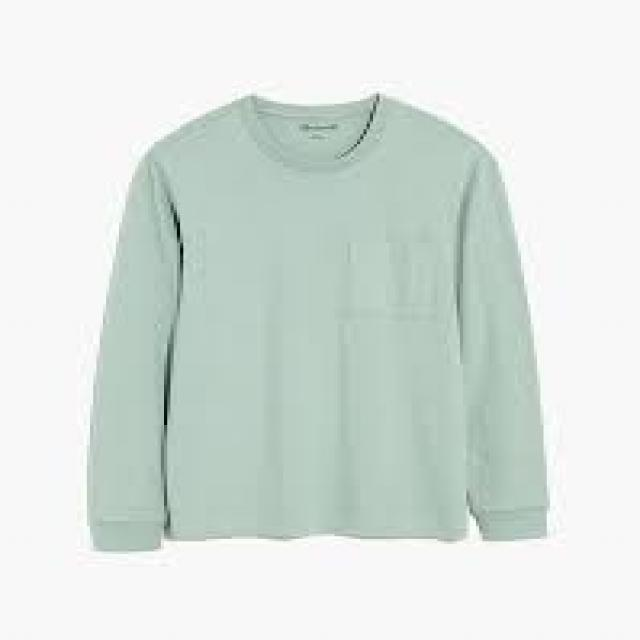plain: (81, 93, 554, 548)
